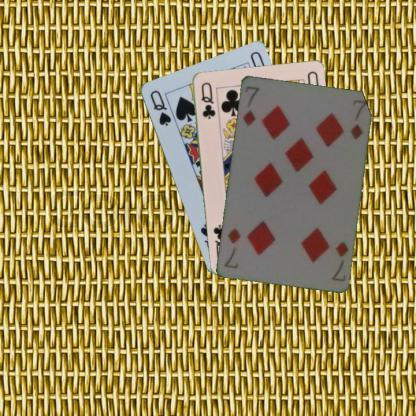7d: (328, 238, 350, 283), (240, 82, 260, 127)
Qc: (198, 79, 216, 120)
Qs: (147, 87, 172, 127)
